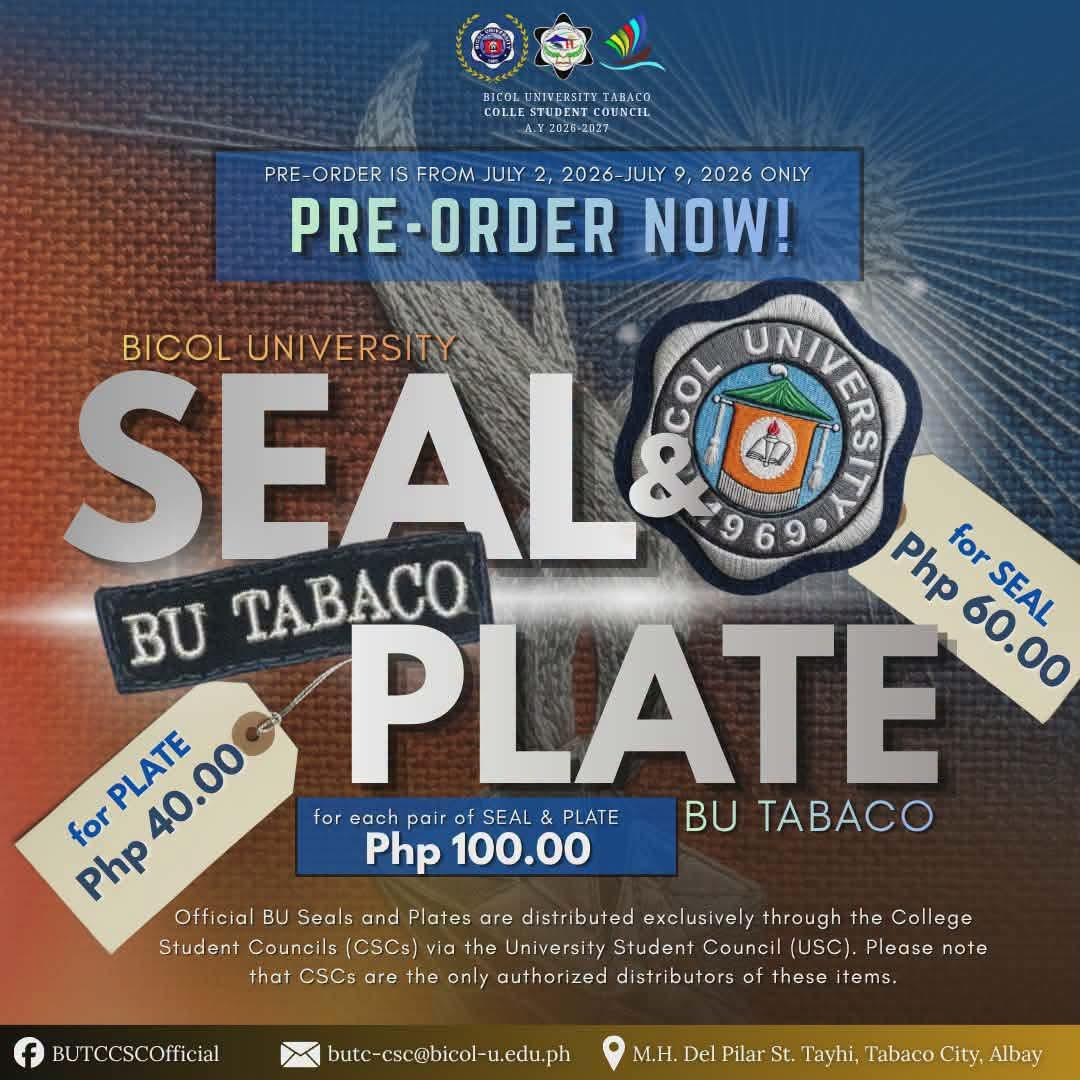embellishment: (611, 276, 1079, 725), (9, 655, 354, 961), (215, 148, 864, 281), (95, 533, 495, 695), (298, 798, 679, 875)
logo: (593, 5, 673, 83), (453, 9, 533, 86), (528, 5, 600, 85), (279, 1033, 324, 1071), (9, 1031, 51, 1070), (599, 1028, 630, 1071)
text: (51, 311, 959, 843), (151, 897, 1003, 992), (258, 159, 822, 264), (37, 697, 265, 916), (865, 480, 1079, 701), (308, 804, 628, 875), (627, 1034, 1049, 1070), (470, 84, 661, 139), (324, 1041, 573, 1070), (49, 1037, 230, 1070)
underlay: (0, 0, 1079, 1079), (564, 0, 1079, 562)
